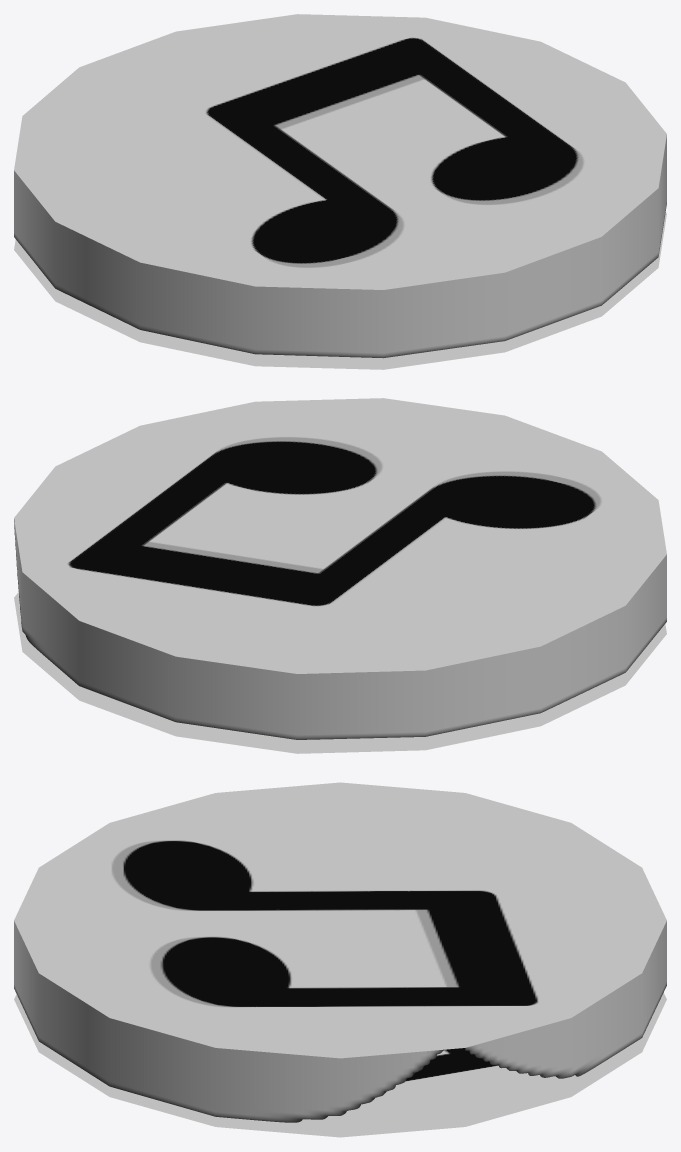
The model's file is dongxu.fbx.
The picture shows the model from 3 angles, top to bottom: view 1: azimuth 30°, elevation 25°; view 2: azimuth 150°, elevation 25°; view 3: azimuth 270°, elevation 25°; orthographic projection.
Visible parts, largest first — view 1: pCylinder1; view 2: pCylinder1; view 3: pCylinder1.
Boxes of the visible parts, <box> form: pCylinder1: <box>14,14,666,369</box>; pCylinder1: <box>14,398,666,753</box>; pCylinder1: <box>14,782,666,1137</box>.
Size of the model in its own units: 2 by 0.2673 by 2.
